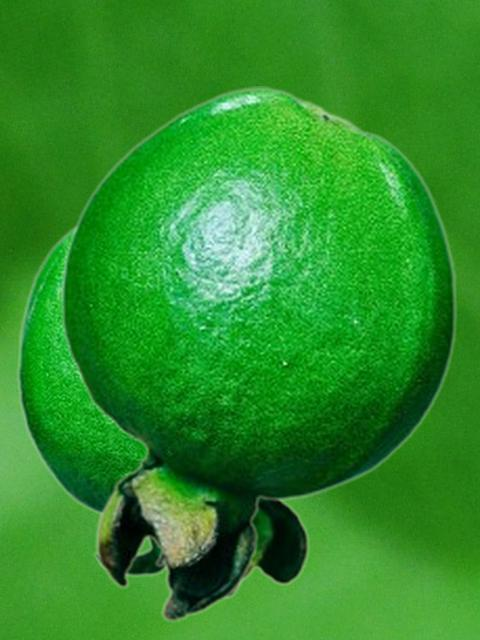guava: (59, 86, 457, 621), (15, 223, 313, 597)
